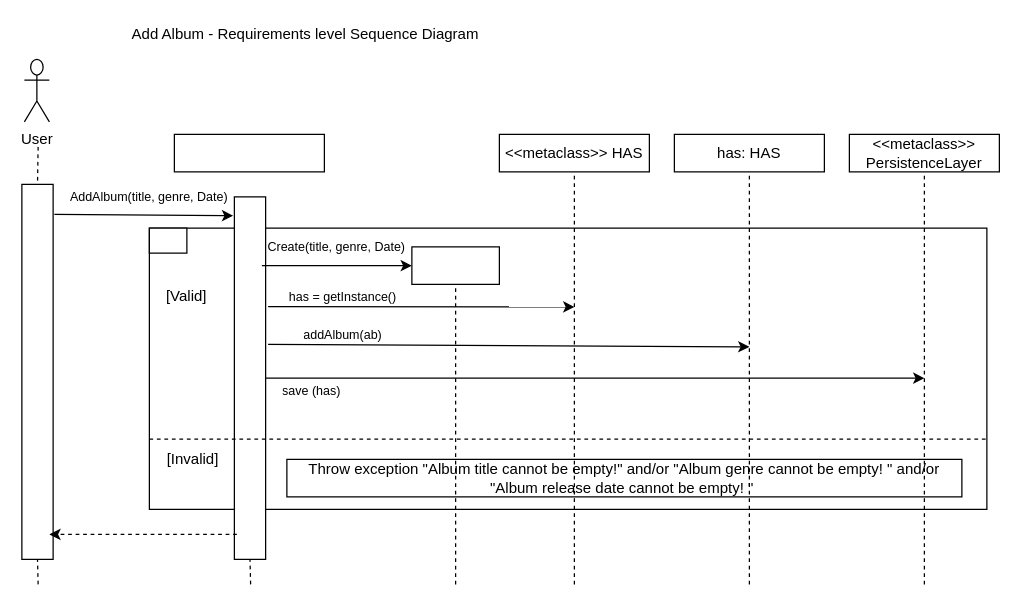
The diagram is 1021 pixels wide and 608 high, and some of its shapes have lost their labels. Here are the shapes that lost their labels. From the top down, the centre of each, then its label:
At (248,152): ":System".
At (167,240): "alt".
At (455,265): "ab : Album".
